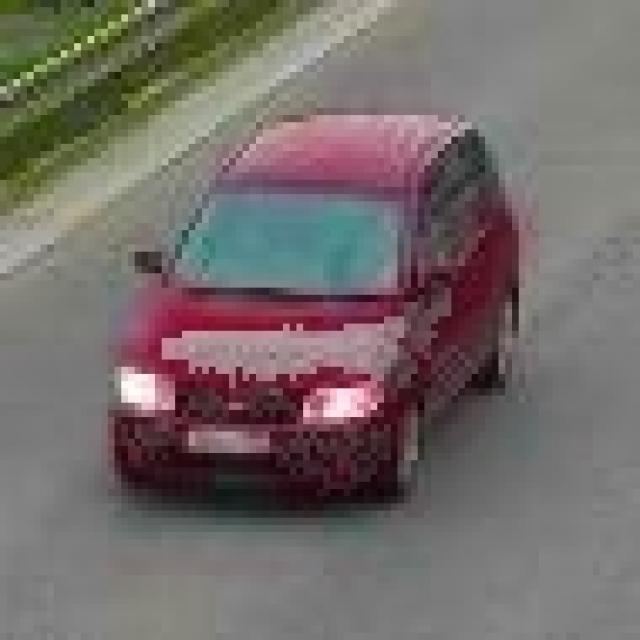maroon: (118, 111, 515, 500)
